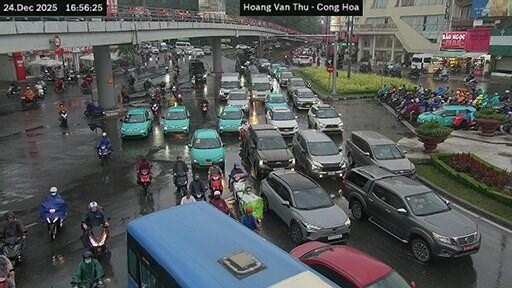motorbike: (44, 207, 64, 238), (89, 225, 108, 256), (2, 238, 22, 265), (397, 102, 419, 121), (230, 172, 245, 199), (451, 113, 476, 129), (83, 103, 105, 116), (138, 171, 150, 194), (98, 145, 111, 165), (499, 112, 511, 133), (176, 172, 186, 194), (73, 280, 103, 287), (19, 94, 35, 106), (210, 175, 220, 190), (64, 71, 77, 81), (150, 103, 159, 117), (408, 68, 419, 79), (7, 85, 19, 95), (464, 75, 476, 85), (35, 85, 44, 98), (80, 82, 90, 93), (192, 190, 204, 199), (42, 71, 54, 80), (60, 111, 67, 126), (199, 103, 207, 115), (432, 73, 448, 79), (79, 66, 93, 72), (54, 85, 64, 93), (176, 91, 182, 104), (240, 126, 246, 134), (304, 81, 310, 88), (239, 137, 243, 142)
